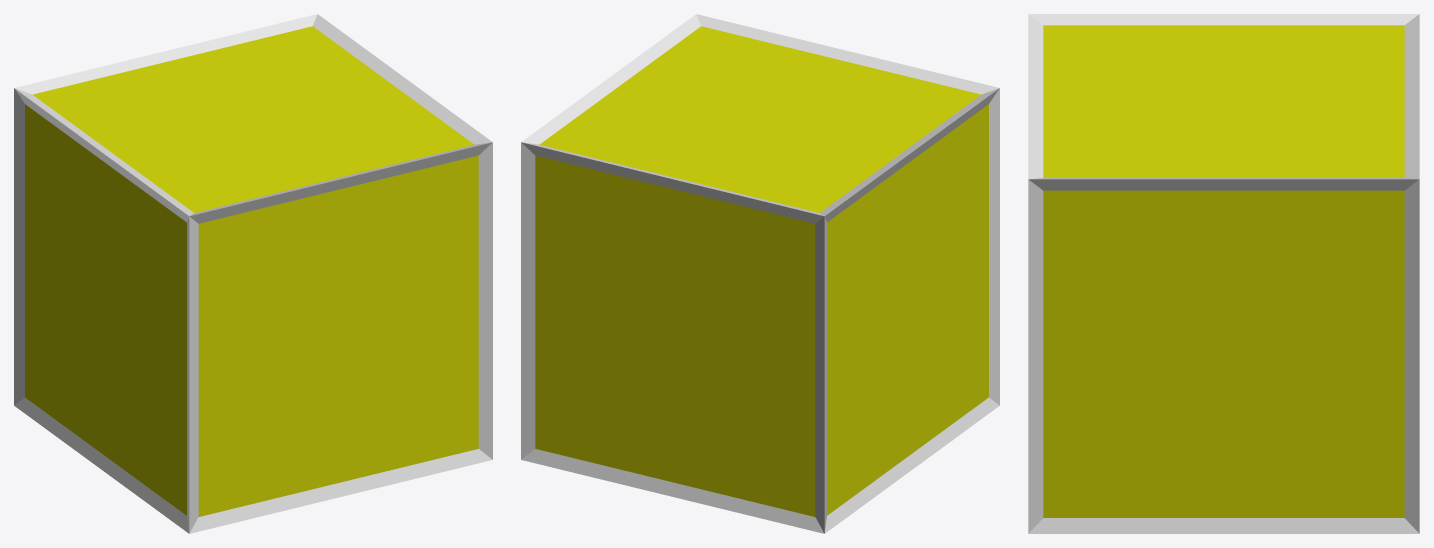
Rendered from BoundingBoxYellow.glb.
3 views of the same model, side by side, from view 1: azimuth 30°, elevation 25°; view 2: azimuth 150°, elevation 25°; view 3: azimuth 270°, elevation 25° (orthographic). The views are drawn at different scales.
Visible parts, largest first — view 1: Cube.001; view 2: Cube.001; view 3: Cube.001.
Part boxes in pixels (x1,y1,x2,y2): Cube.001: (14, 14, 492, 533); Cube.001: (521, 14, 999, 533); Cube.001: (1028, 14, 1419, 533).
Bounding box in the file's own units: 1 × 1 × 1.
